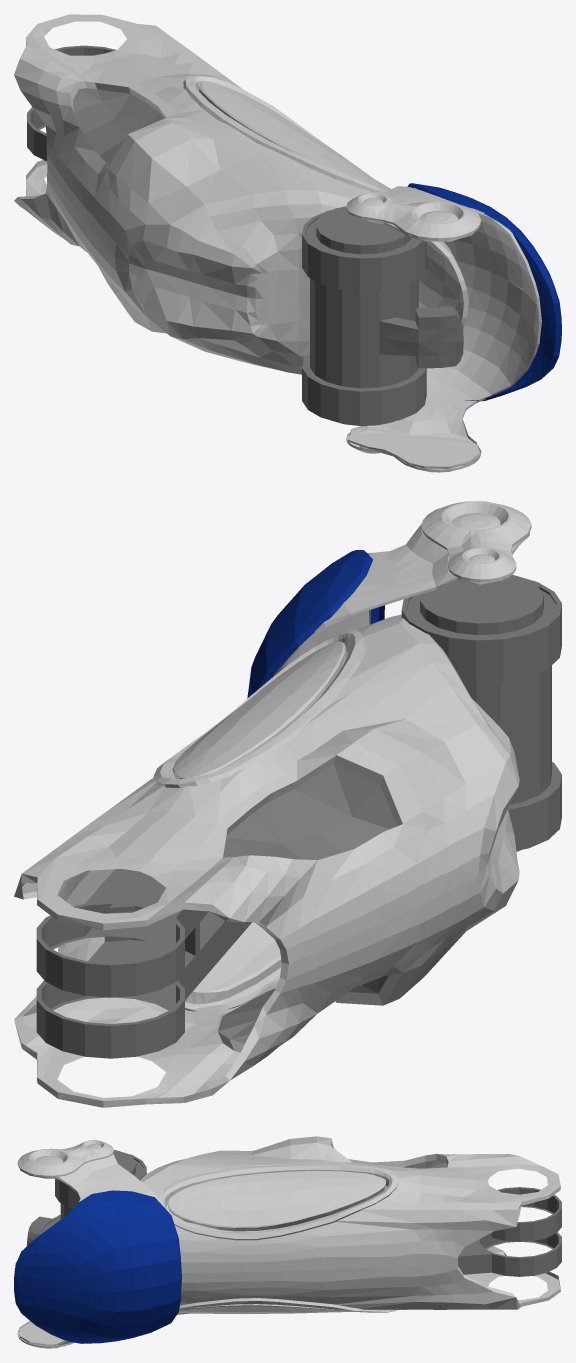
Rendered from LKneePitch.obj.
3 renders of one model, top to bottom at view 1: azimuth 30°, elevation 25°; view 2: azimuth 150°, elevation 25°; view 3: azimuth 270°, elevation 25°, orthographic. The views are drawn at different scales.
Parts seen in each view (by area): view 1: LKneePitch, Cylinder003_001_skip_Cylinder003.001, Object004_001_skip_Object004.001; view 2: LKneePitch, Object004_001_skip_Object004.001, Cylinder003_001_skip_Cylinder003.001; view 3: LKneePitch, Object004_001_skip_Object004.001, Cylinder003_001_skip_Cylinder003.001.
Part boxes in pixels (x1,y1,x2,y2): LKneePitch: [14, 14, 561, 472]; Cylinder003_001_skip_Cylinder003.001: [302, 206, 463, 425]; Object004_001_skip_Object004.001: [27, 45, 116, 161]; LKneePitch: [14, 501, 531, 1107]; Object004_001_skip_Object004.001: [36, 868, 251, 1058]; Cylinder003_001_skip_Cylinder003.001: [401, 574, 561, 851]; LKneePitch: [14, 1136, 560, 1348]; Object004_001_skip_Object004.001: [458, 1187, 561, 1276]; Cylinder003_001_skip_Cylinder003.001: [26, 1150, 146, 1246].
Size of the model in its own units: 0.1653 by 0.1377 by 0.3741.
